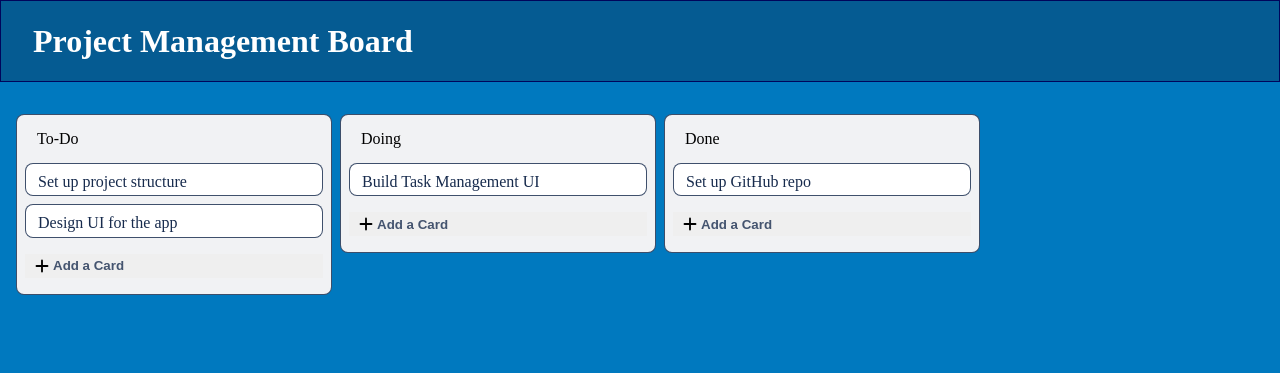
Project Management Board E2e › should allow canceling card creation
The image size is (1280, 373).
Click the button with test id "list.initiateCreateCardButton" below "To-Do" at {"x": 89, "y": 266}, box [25,254,323,278]
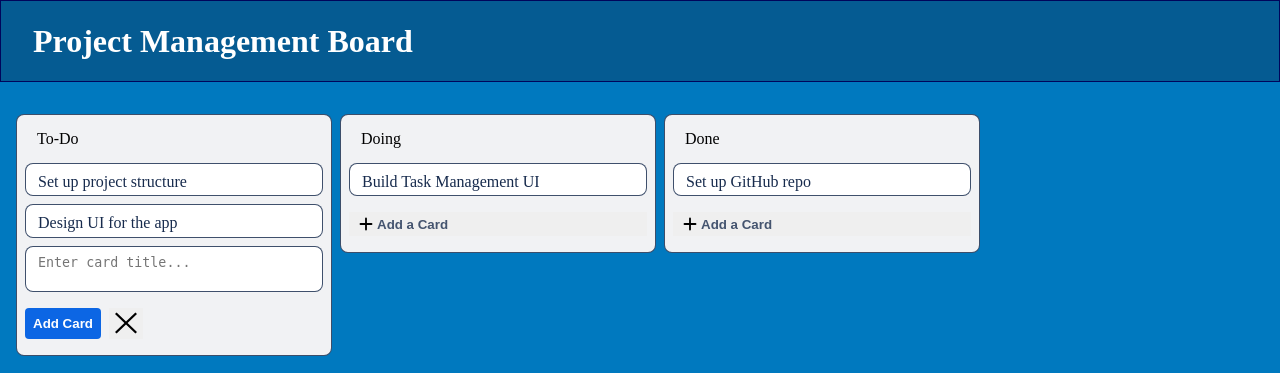
Now the text box with test id "card.title.editable" is shown, box [38,255,310,287]
# Click the close button to cancel card creation
Click the button with test id "list.closeCreateCardButton" at {"x": 126, "y": 324}, box [109,308,143,339]
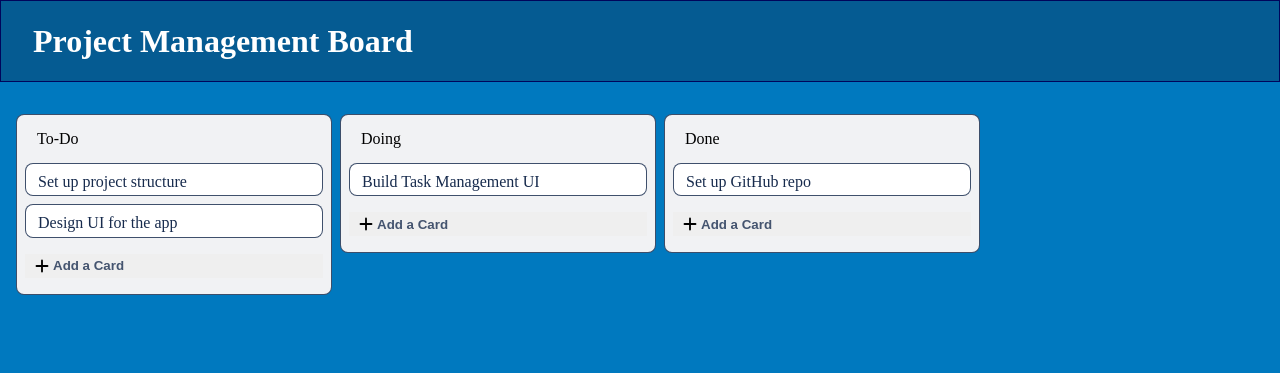
Now the text box with test id "card.title.editable" is gone
